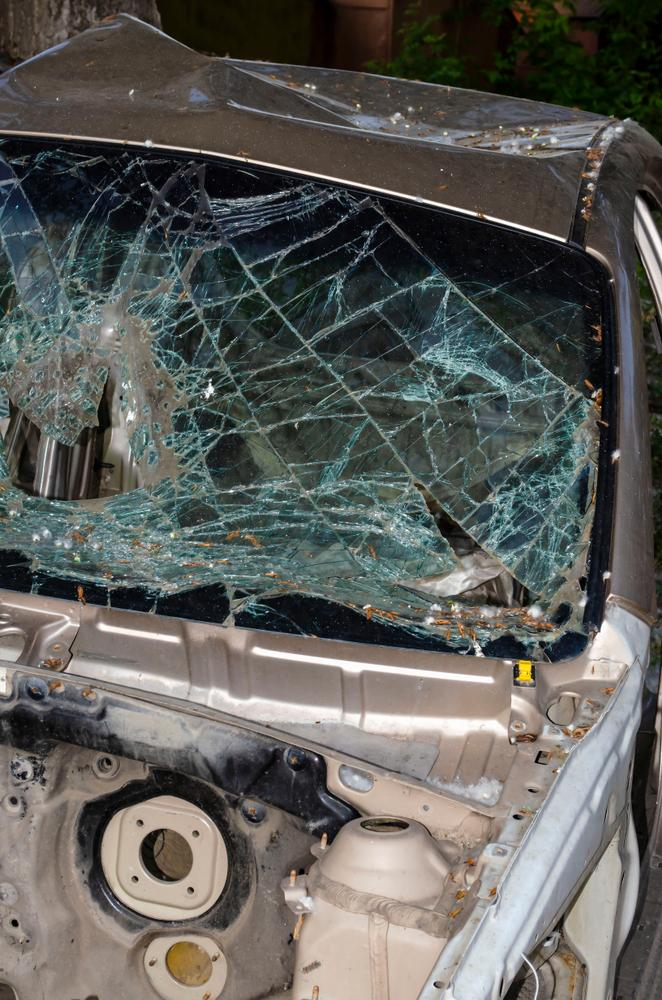dent: (11, 16, 607, 159)
glass shatter: (0, 144, 620, 663)
